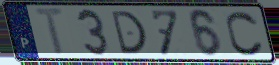3: (76, 7, 110, 58)
6: (188, 8, 224, 59)
7: (149, 9, 181, 57)
C: (225, 9, 266, 58)
D: (109, 10, 149, 56)
T: (32, 6, 68, 58)
